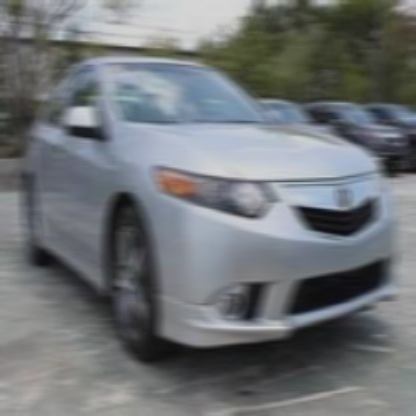Vehicle: (21, 52, 402, 368)
